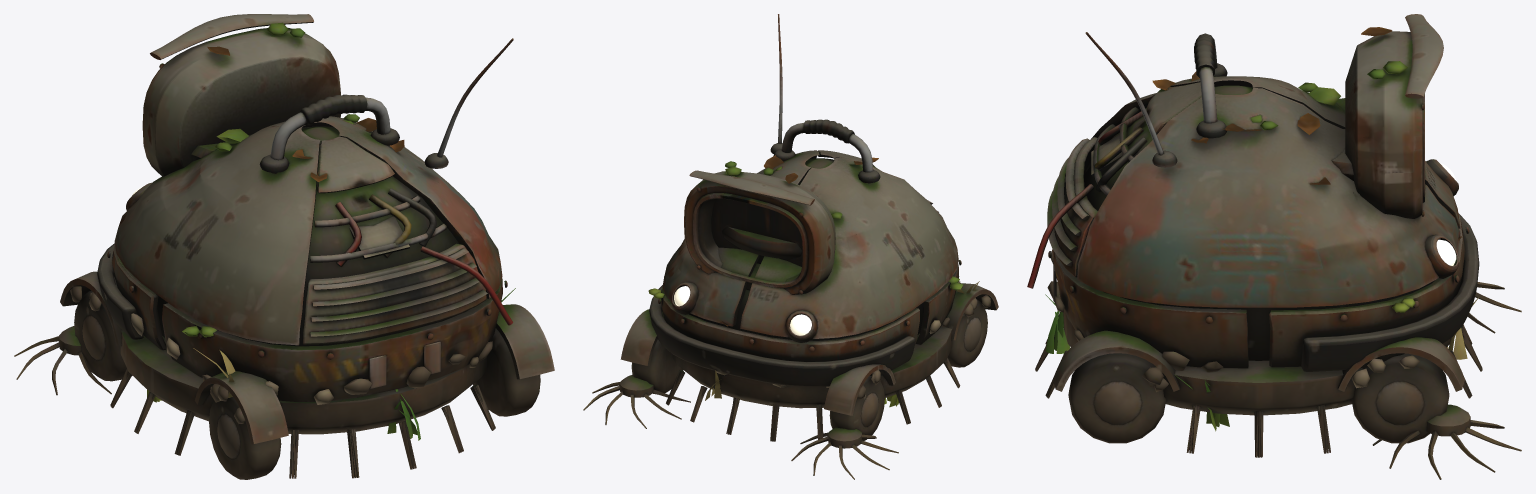
The model's file is gloom_ticks_hi.glb.
The picture shows the model from 3 angles, left to right: view 1: azimuth 30°, elevation 25°; view 2: azimuth 150°, elevation 25°; view 3: azimuth 270°, elevation 25°; orthographic projection. The views are drawn at different scales.
Parts seen in each view (by area): view 1: body_m, sg_m; view 2: body_m, sg_m; view 3: body_m, sg_m.
Part boxes in pixels (bbox=[...]): body_m: bbox=[14, 38, 554, 479]; sg_m: bbox=[142, 14, 340, 176]; body_m: bbox=[583, 14, 998, 479]; sg_m: bbox=[684, 161, 835, 294]; body_m: bbox=[1027, 32, 1521, 479]; sg_m: bbox=[1345, 14, 1443, 218].
Size of the model in its own units: 0.6105 by 0.5769 by 0.6309.
Materials: 2 (1 with a texture image).
